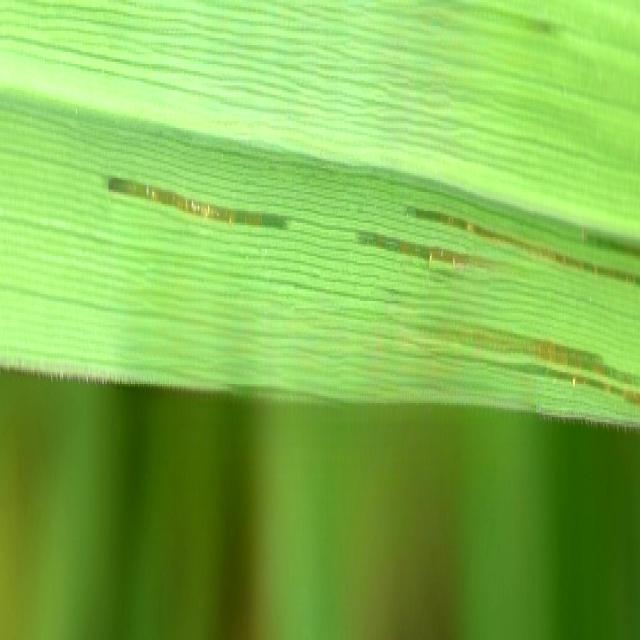BLS: (408, 212, 639, 287), (420, 323, 639, 386), (416, 353, 639, 406), (108, 176, 291, 228), (358, 233, 531, 274)
